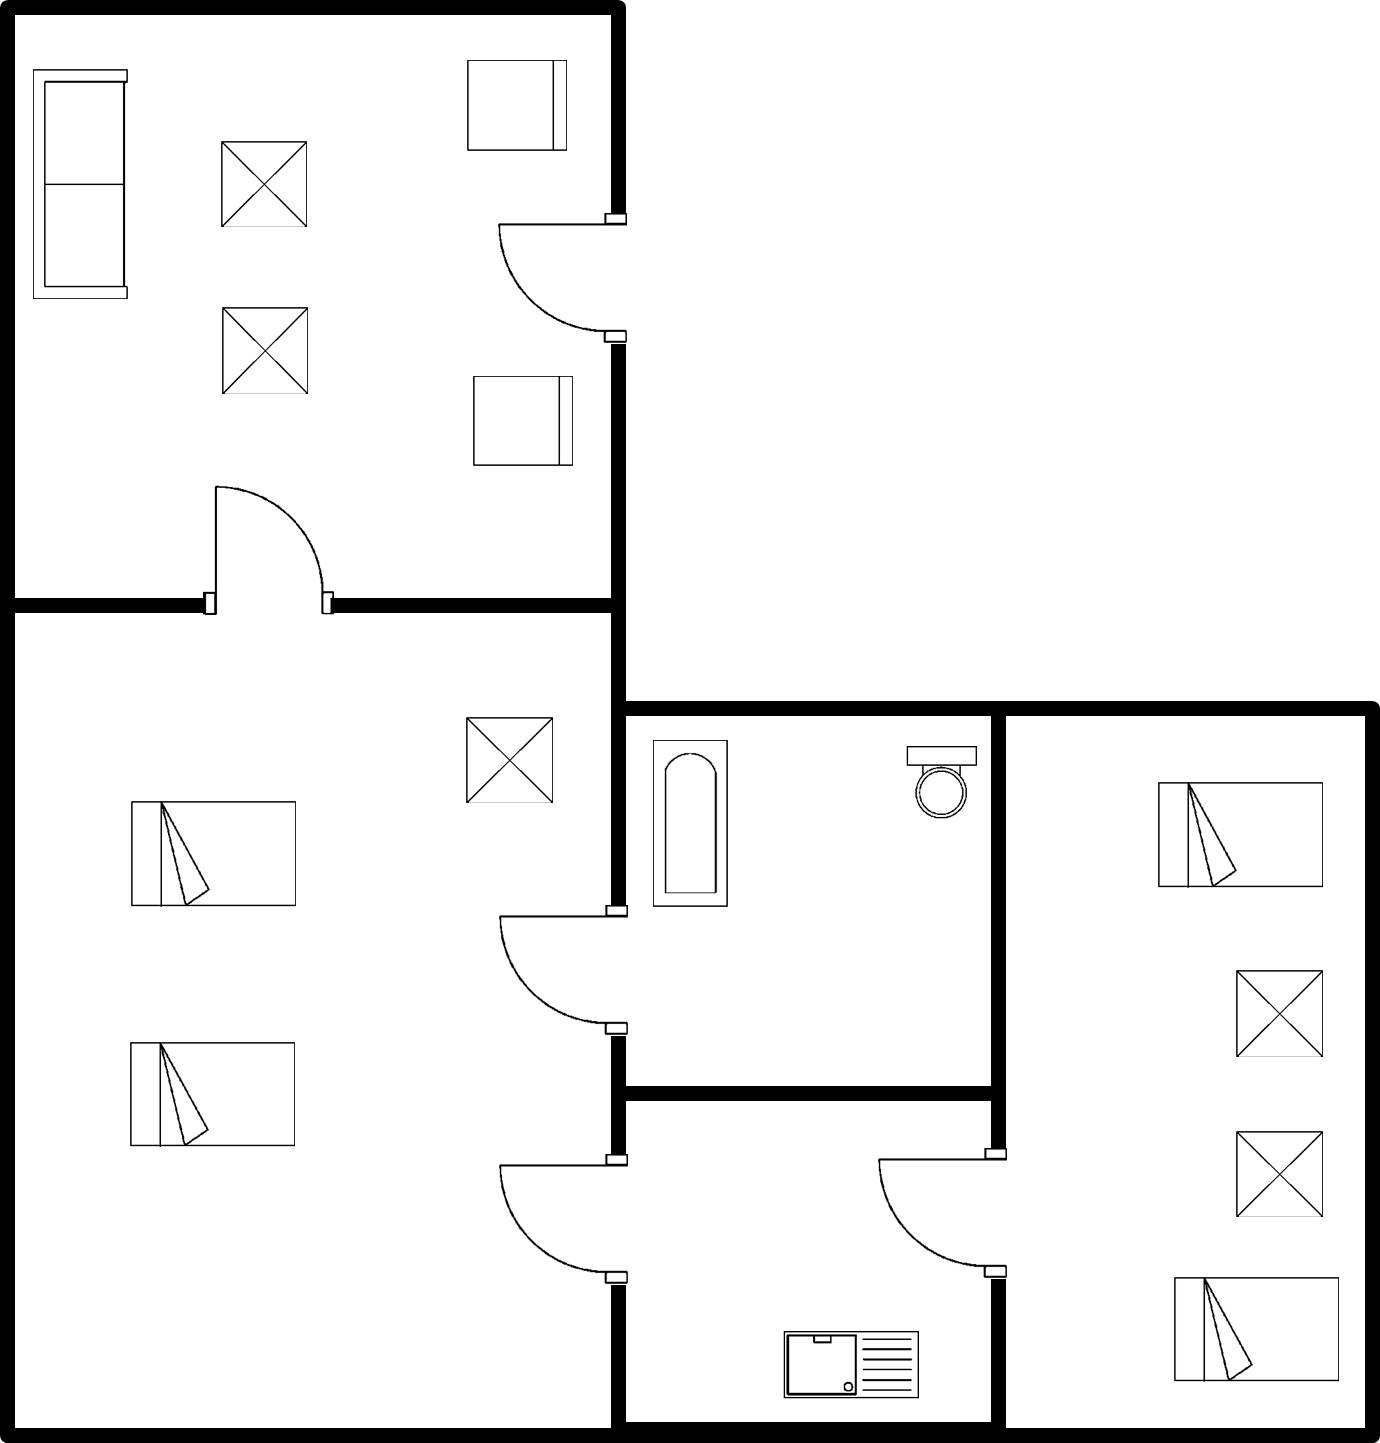bed: (121, 790, 309, 922), (1150, 771, 1333, 901), (119, 1032, 305, 1157)
coffee_table: (1228, 1119, 1343, 1242), (453, 705, 566, 817), (207, 128, 317, 236), (208, 295, 318, 402), (1224, 962, 1333, 1067)
large_sink: (900, 736, 980, 825)
large_sofa: (22, 60, 138, 312)
sink: (773, 1324, 928, 1407)
small_sofa: (462, 364, 586, 479), (457, 49, 577, 160)
tub: (646, 731, 739, 919)
